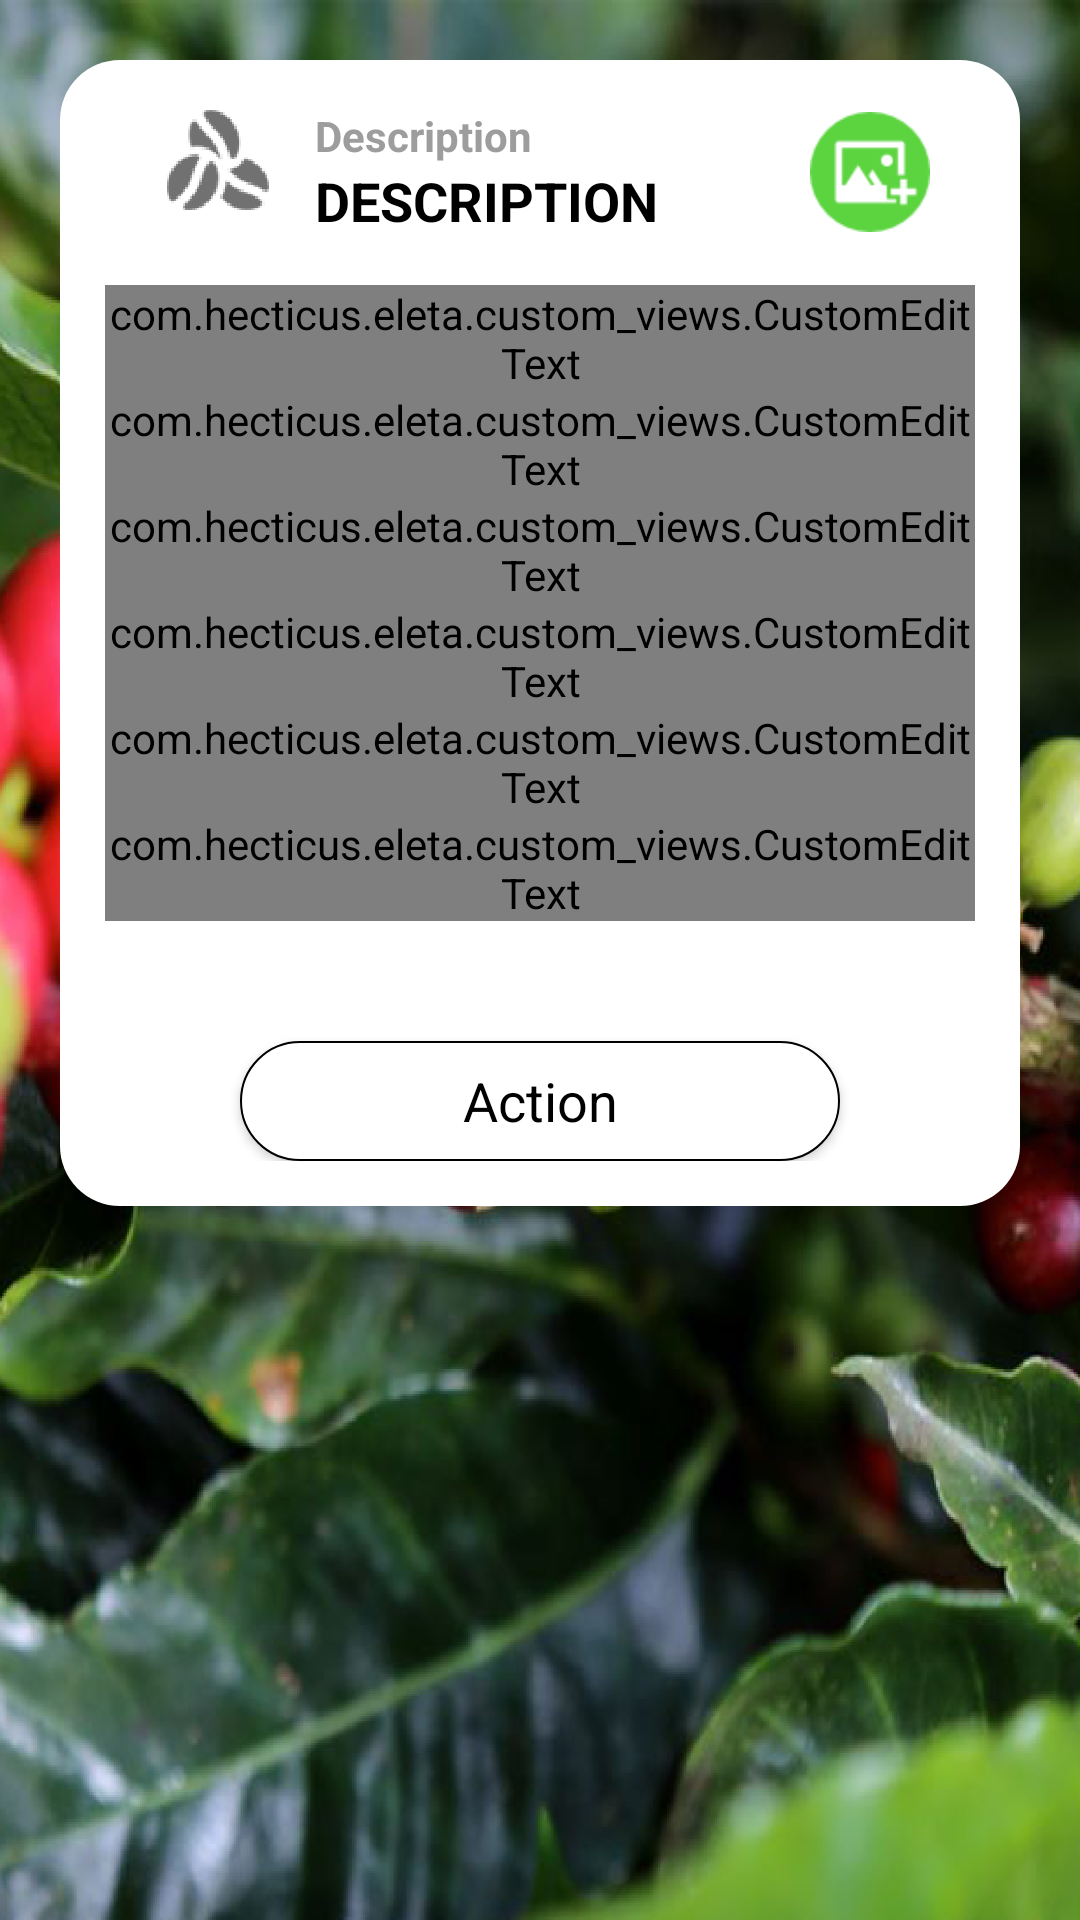

Where to tap for icons on this 1080px×1920px app screen, as (x,y):
coffee beans: (218,160)
